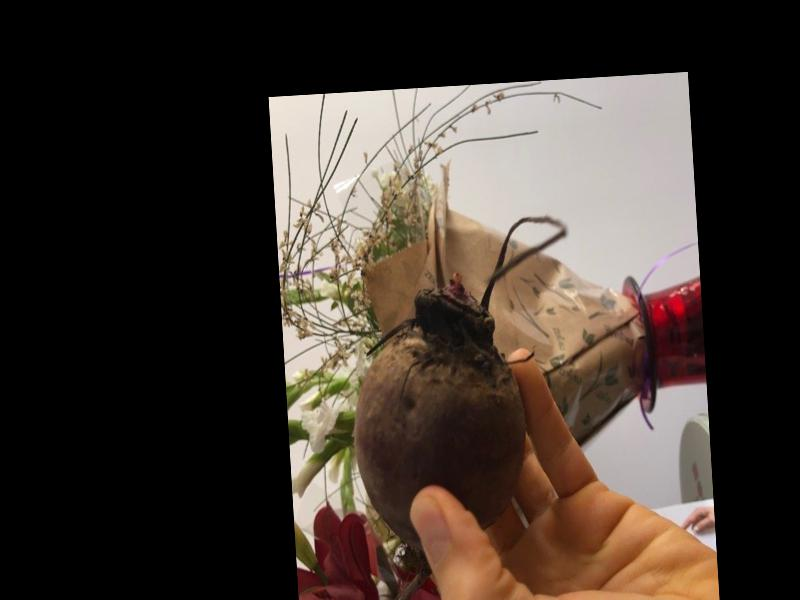Beet: (314, 213, 589, 600)
